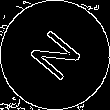N_SE: (23, 24, 87, 86)
